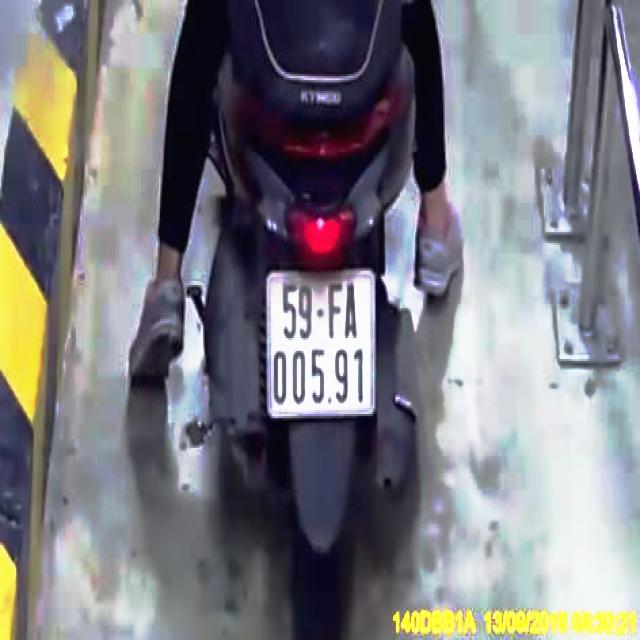license_plate: (269, 271, 377, 417)
